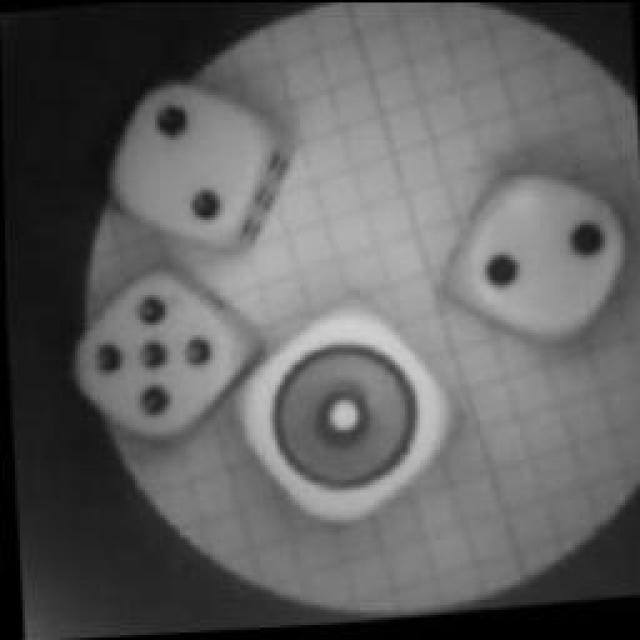dice_1: (220, 282, 465, 552)
dice_2: (435, 160, 640, 365), (94, 69, 288, 264)
dice_5: (71, 264, 249, 451)
